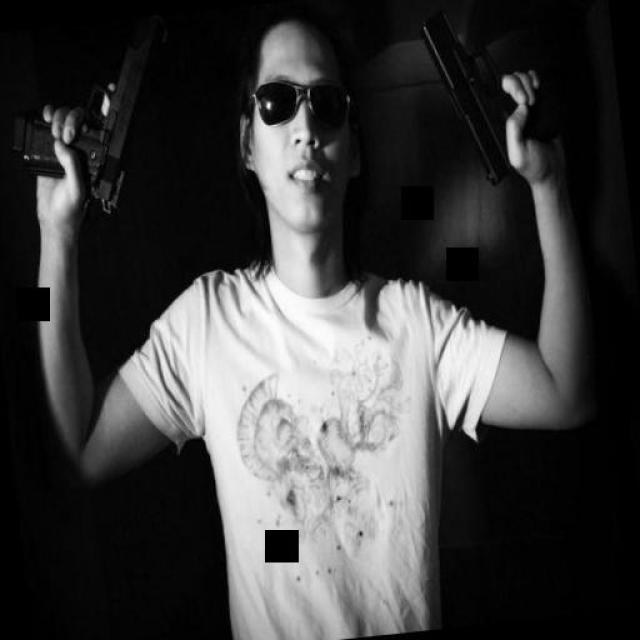gun: (0, 18, 188, 228), (413, 0, 535, 189)
